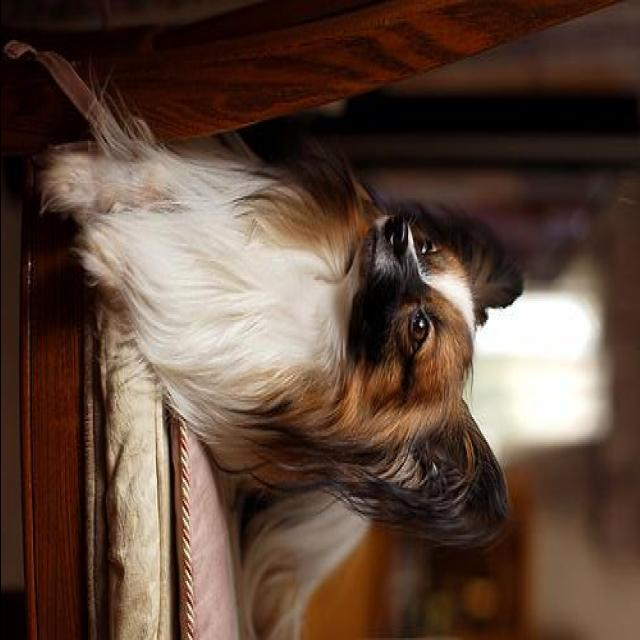papillon: (31, 55, 528, 640)
